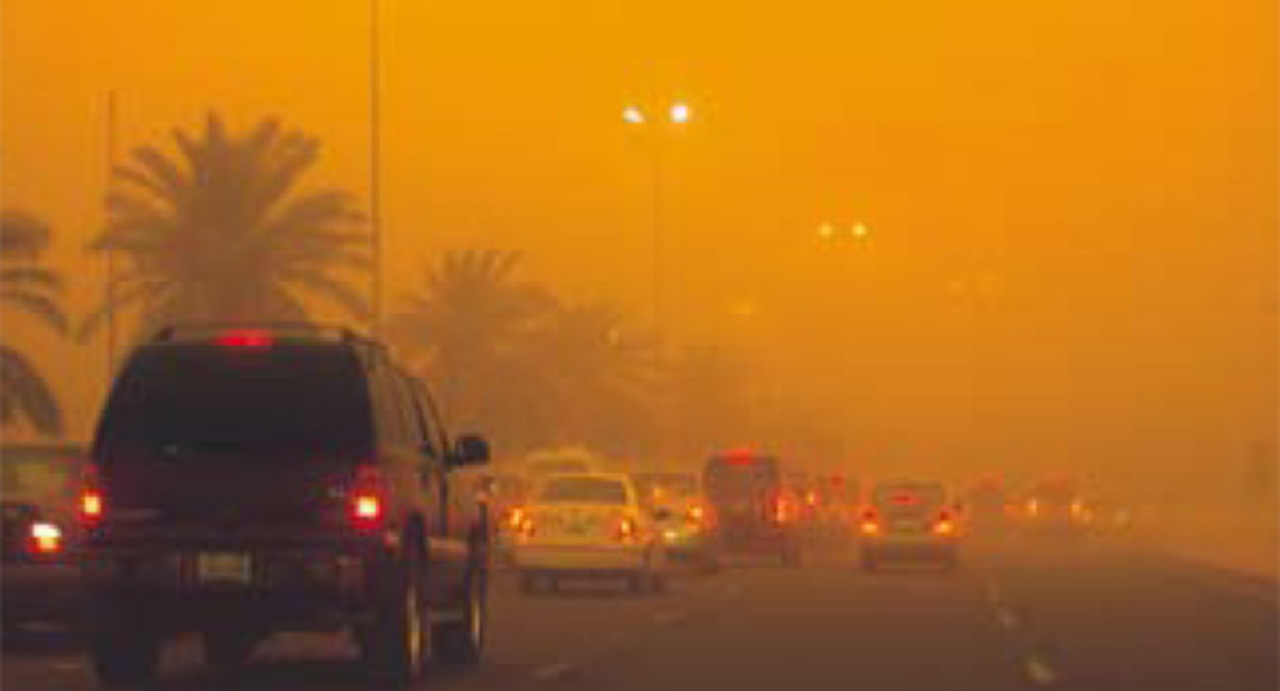car: (64, 332, 472, 687), (517, 469, 668, 604), (4, 441, 88, 652), (695, 451, 803, 562), (858, 472, 956, 568), (644, 479, 719, 571), (1020, 460, 1087, 532), (951, 465, 1023, 528), (783, 463, 824, 542)
